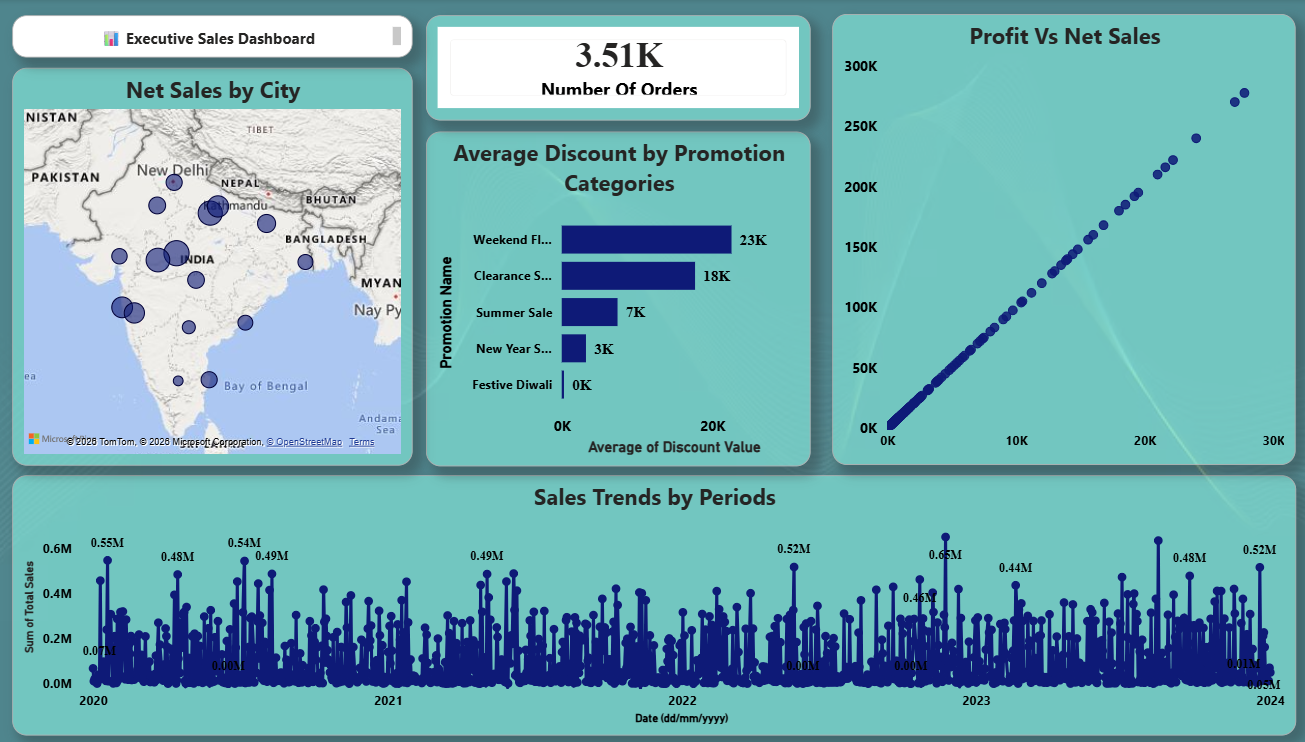

The dashboard page shown, as its layout file describes it:
{"tool":"powerbi","page":{"name":"Executive Sales Dashboard","canvas":[1280,720],"ordinal":0},"visuals":[{"type":"lineChart","title":"Sales Trends by Periods","fields":{"Y":["Sum(Fact Table.Total Sales)"],"Category":["Fact Table.Date (dd/mm/yyyy)"]},"box":[20.5,459.7,1239,250.9],"z":0},{"type":"scatterChart","title":"Profit Vs Net Sales","fields":{"X":["Fact Table.Profit "],"Y":["Fact Table.Net Sales  "]},"box":[811.9,14.5,447.6,435.5],"z":1000},{"type":"barChart","title":"Average Discount by Promotion Categories","fields":{"Y":["Avg(Fact Table.Discount Value)"],"Category":["Dim Promotion.Promotion Name"]},"box":[419.8,127.9,371.6,323.3],"z":2000},{"type":"map","title":"Net Sales by City","fields":{"Category":["Dim Customers.City"],"Size":["Sum(Fact Table.Net Sales  )"]},"box":[20.5,66.4,386.1,383.6],"z":3000},{"type":"cardVisual","title":"NumBer of Orders","fields":{"Data":["CountNonNull(Fact Table.CustomerID)"]},"box":[419.8,15.7,371.6,101.3],"z":4000},{"type":"textbox","box":[20.5,15.7,386.1,41],"z":5000}]}

Visuals, with their boxes on the page's 1280x720 design canvas (x1, y1, x2, y2). These are canvas units, not pixel positions in the 1305x742 screenshot, which may show the page scaled, cropped or inside an application window:
"Sales Trends by Periods" lineChart: detection(20, 460, 1260, 711)
"Profit Vs Net Sales" scatterChart: detection(812, 14, 1260, 450)
"Average Discount by Promotion Categories" barChart: detection(420, 128, 791, 451)
"Net Sales by City" map: detection(20, 66, 407, 450)
"NumBer of Orders" cardVisual: detection(420, 16, 791, 117)
textbox: detection(20, 16, 407, 57)
